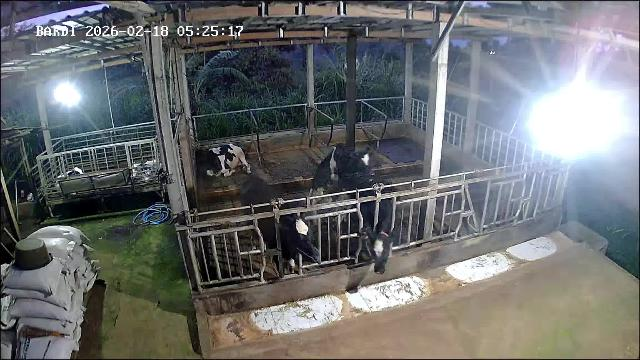mounting: (306, 144, 372, 227)
